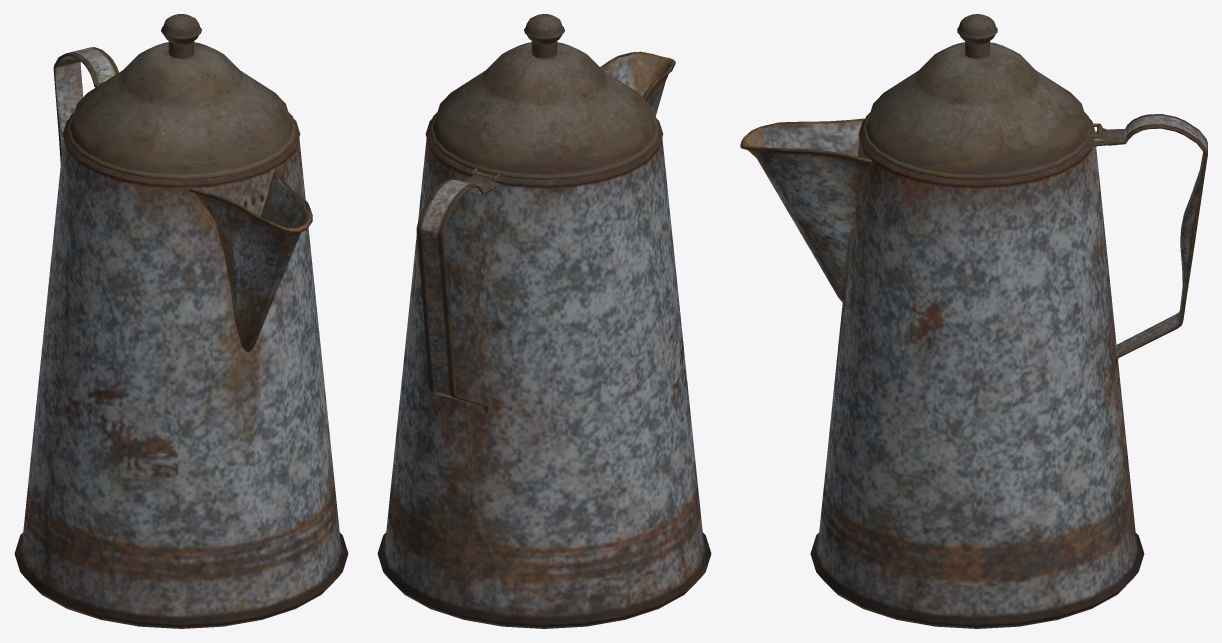
File: coffeepot01a.obj
3 views of the same model, side by side, from view 1: azimuth 30°, elevation 25°; view 2: azimuth 150°, elevation 25°; view 3: azimuth 270°, elevation 25° (orthographic).
Visible parts, largest first — view 1: LODGroup_1_MainMesh_1_Submesh_1; view 2: LODGroup_1_MainMesh_1_Submesh_1; view 3: LODGroup_1_MainMesh_1_Submesh_1.
Part boxes in pixels (x1=…): LODGroup_1_MainMesh_1_Submesh_1: x1=14, y1=14, x2=348, y2=628; LODGroup_1_MainMesh_1_Submesh_1: x1=377, y1=14, x2=711, y2=628; LODGroup_1_MainMesh_1_Submesh_1: x1=740, y1=14, x2=1207, y2=628.
Size of the model in its own units: 12.79 by 23 by 17.93.
1 material, 1 textured.
